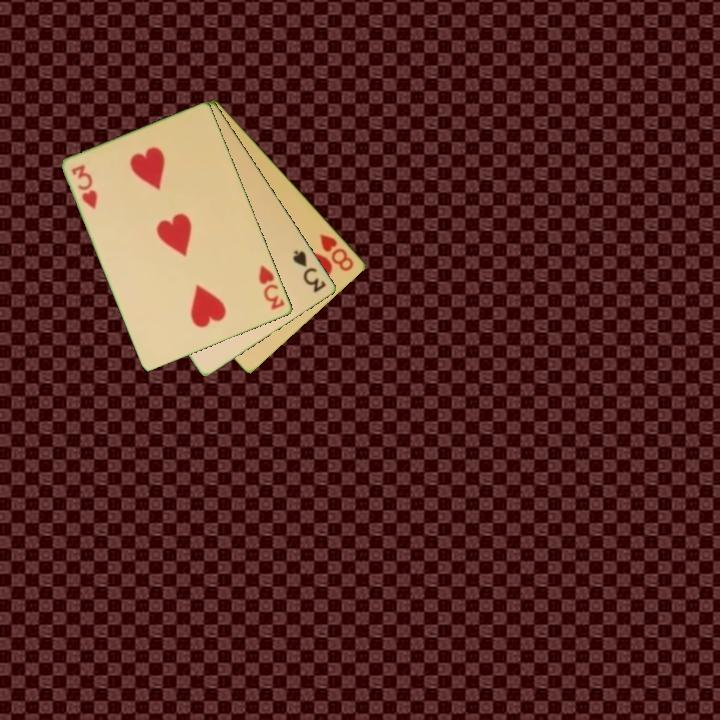3h: (255, 262, 288, 313), (68, 161, 101, 212)
3s: (289, 246, 329, 296)
8h: (317, 230, 357, 274)
